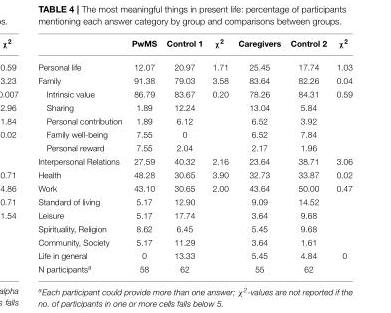table: (37, 37, 351, 273)
table column: (37, 37, 126, 273), (232, 37, 284, 273), (284, 37, 330, 273), (161, 37, 206, 273), (126, 37, 161, 273), (206, 37, 232, 273), (330, 37, 351, 273)
table column header: (37, 37, 351, 55)
table row: (37, 37, 351, 55), (37, 55, 351, 73), (37, 73, 351, 87), (37, 100, 351, 114), (37, 127, 351, 141), (37, 154, 351, 168), (37, 181, 351, 195), (37, 208, 351, 222), (37, 87, 351, 100), (37, 114, 351, 127), (37, 141, 351, 154), (37, 168, 351, 181), (37, 195, 351, 208), (37, 222, 351, 235), (37, 235, 351, 248), (37, 248, 351, 261), (37, 261, 351, 273)
